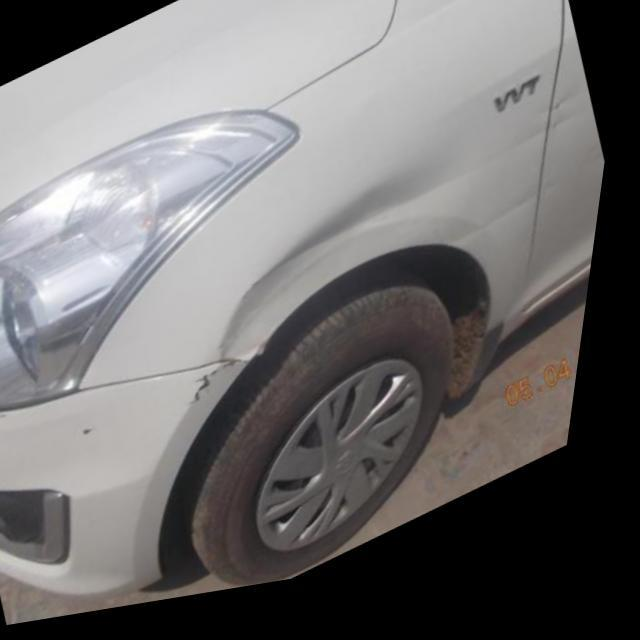crack: (197, 371, 252, 419)
dent: (226, 194, 448, 370)
scratch: (430, 110, 590, 209), (459, 192, 570, 259)
